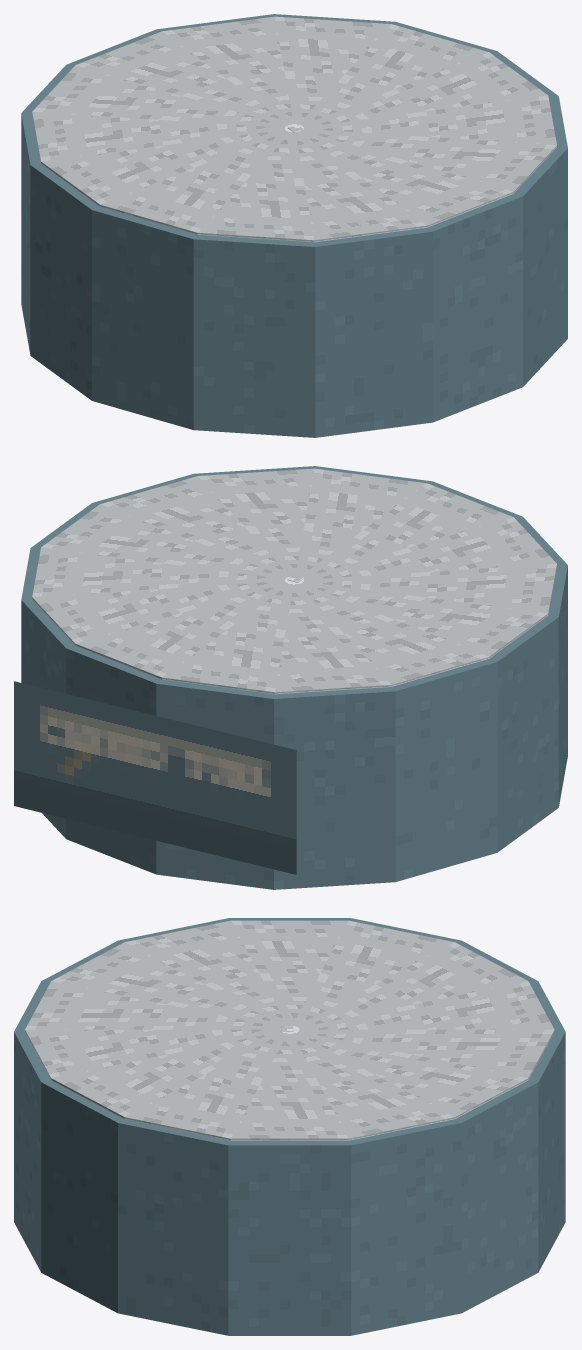
Rendered from can_tuna.glb.
The picture shows the model from 3 angles, top to bottom: view 1: azimuth 30°, elevation 25°; view 2: azimuth 150°, elevation 25°; view 3: azimuth 270°, elevation 25°; orthographic projection.
Parts seen in each view (by area): view 1: block_body, block_top; view 2: block_top, block_body, block_contents label; view 3: block_body, block_top.
Part boxes in pixels (bbox=[...]): block_body: bbox=[21, 14, 567, 437]; block_top: bbox=[32, 16, 556, 242]; block_top: bbox=[32, 468, 556, 694]; block_body: bbox=[21, 466, 567, 889]; block_contents label: bbox=[14, 681, 296, 874]; block_body: bbox=[14, 918, 565, 1335]; block_top: bbox=[25, 920, 554, 1140].
Size of the model in its own units: 0.1168 by 0.0469 by 0.1203.
2 materials, 2 textured.
